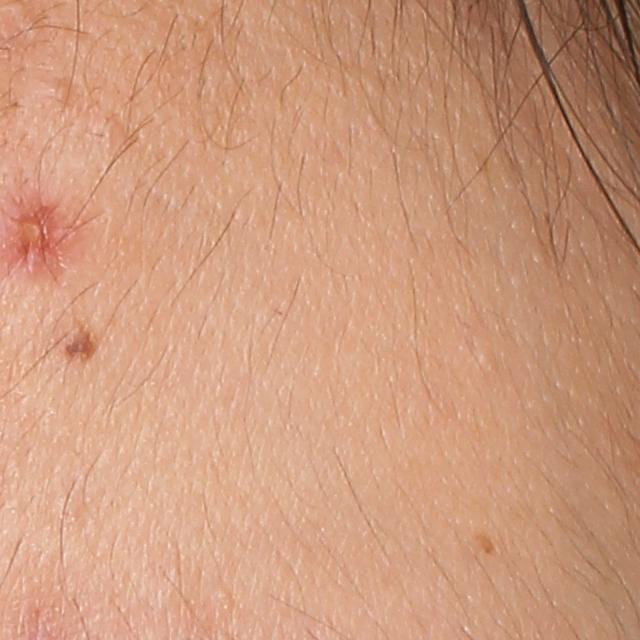comedo: (44, 74, 76, 102)
